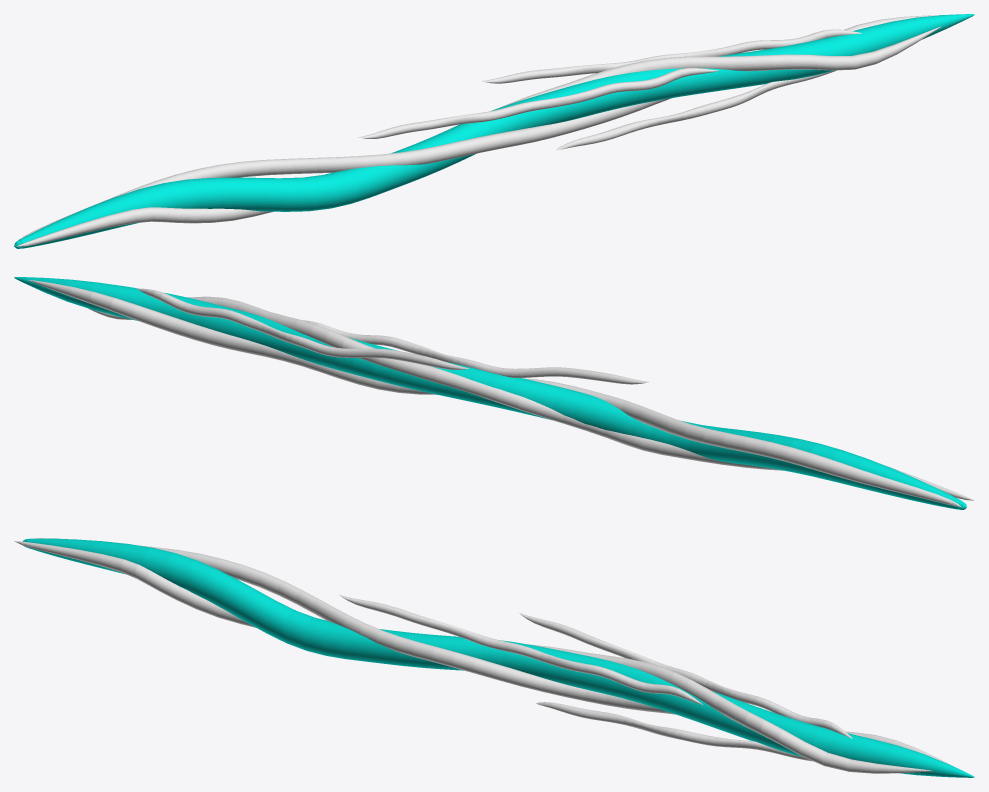
The model's file is LaserBolt.fbx.
3 renders of one model, top to bottom at view 1: azimuth 30°, elevation 25°; view 2: azimuth 150°, elevation 25°; view 3: azimuth 330°, elevation 25°, orthographic.
Parts seen in each view (by area): view 1: Cylinder, Cylinder.002, Cylinder.001, Cylinder.003, Cylinder.004, Cylinder.005; view 2: Cylinder, Cylinder.001, Cylinder.002, Cylinder.004, Cylinder.003; view 3: Cylinder, Cylinder.001, Cylinder.002, Cylinder.003, Cylinder.004, Cylinder.005.
Part boxes in pixels (x1=…): Cylinder: x1=14, y1=14, x2=974, y2=248; Cylinder.002: x1=16, y1=26, x2=941, y2=246; Cylinder.001: x1=19, y1=15, x2=941, y2=239; Cylinder.003: x1=358, y1=68, x2=718, y2=138; Cylinder.004: x1=481, y1=29, x2=861, y2=83; Cylinder.005: x1=556, y1=70, x2=836, y2=150; Cylinder: x1=14, y1=277, x2=966, y2=509; Cylinder.001: x1=28, y1=280, x2=962, y2=507; Cylinder.002: x1=187, y1=296, x2=974, y2=500; Cylinder.004: x1=136, y1=288, x2=469, y2=369; Cylinder.003: x1=302, y1=320, x2=649, y2=384; Cylinder: x1=23, y1=538, x2=974, y2=777; Cylinder.001: x1=35, y1=538, x2=955, y2=767; Cylinder.002: x1=14, y1=541, x2=932, y2=773; Cylinder.003: x1=339, y1=594, x2=702, y2=704; Cylinder.004: x1=519, y1=612, x2=852, y2=738; Cylinder.005: x1=536, y1=702, x2=812, y2=761.
Size of the model in its own units: 501 by 31.63 by 33.98.
